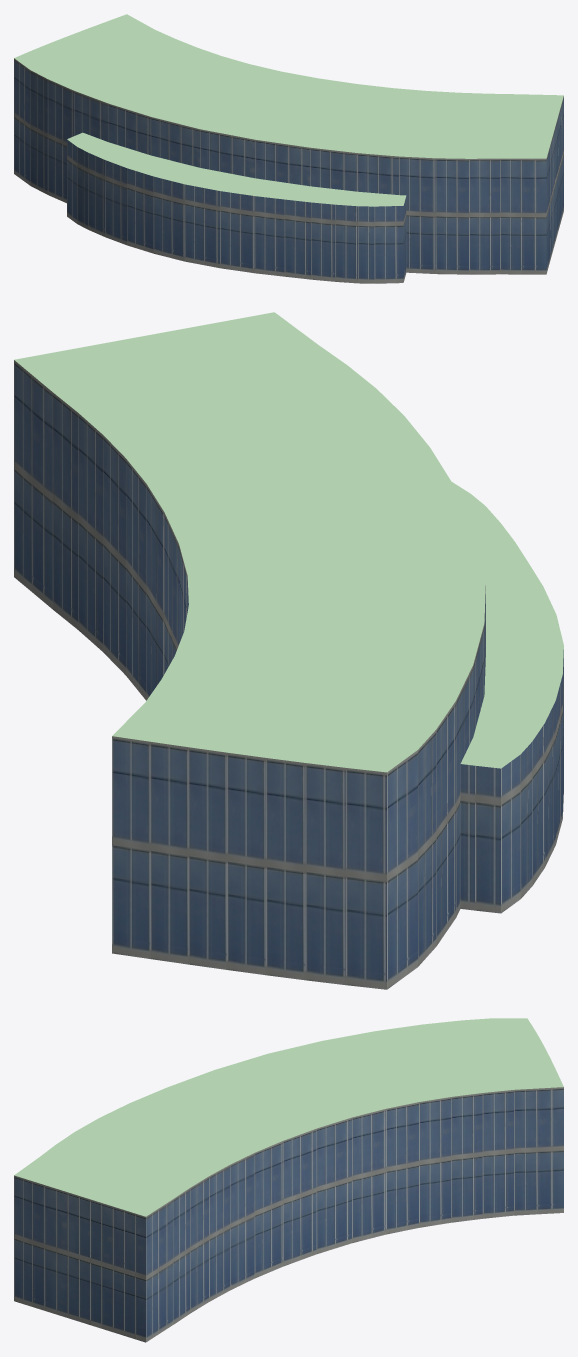
File: xingzhenglou.fbx
3 views of the same model, one above another, from view 1: azimuth 30°, elevation 25°; view 2: azimuth 150°, elevation 25°; view 3: azimuth 270°, elevation 25° (orthographic). The views are drawn at different scales.
Parts seen in each view (by area): view 1: CityEngineMaterial_2_m, CityEngineMaterial_m; view 2: CityEngineMaterial_m, CityEngineMaterial_2_m; view 3: CityEngineMaterial_2_m, CityEngineMaterial_m.
Part boxes in pixels (box(x1,y1,x2,y2)): CityEngineMaterial_2_m: box(14, 58, 563, 283); CityEngineMaterial_m: box(14, 14, 563, 206); CityEngineMaterial_m: box(14, 312, 563, 772); CityEngineMaterial_2_m: box(14, 360, 563, 989); CityEngineMaterial_2_m: box(14, 1087, 563, 1342); CityEngineMaterial_m: box(14, 1018, 563, 1216).
Size of the model in its own units: 51.29 by 15 by 59.43.
